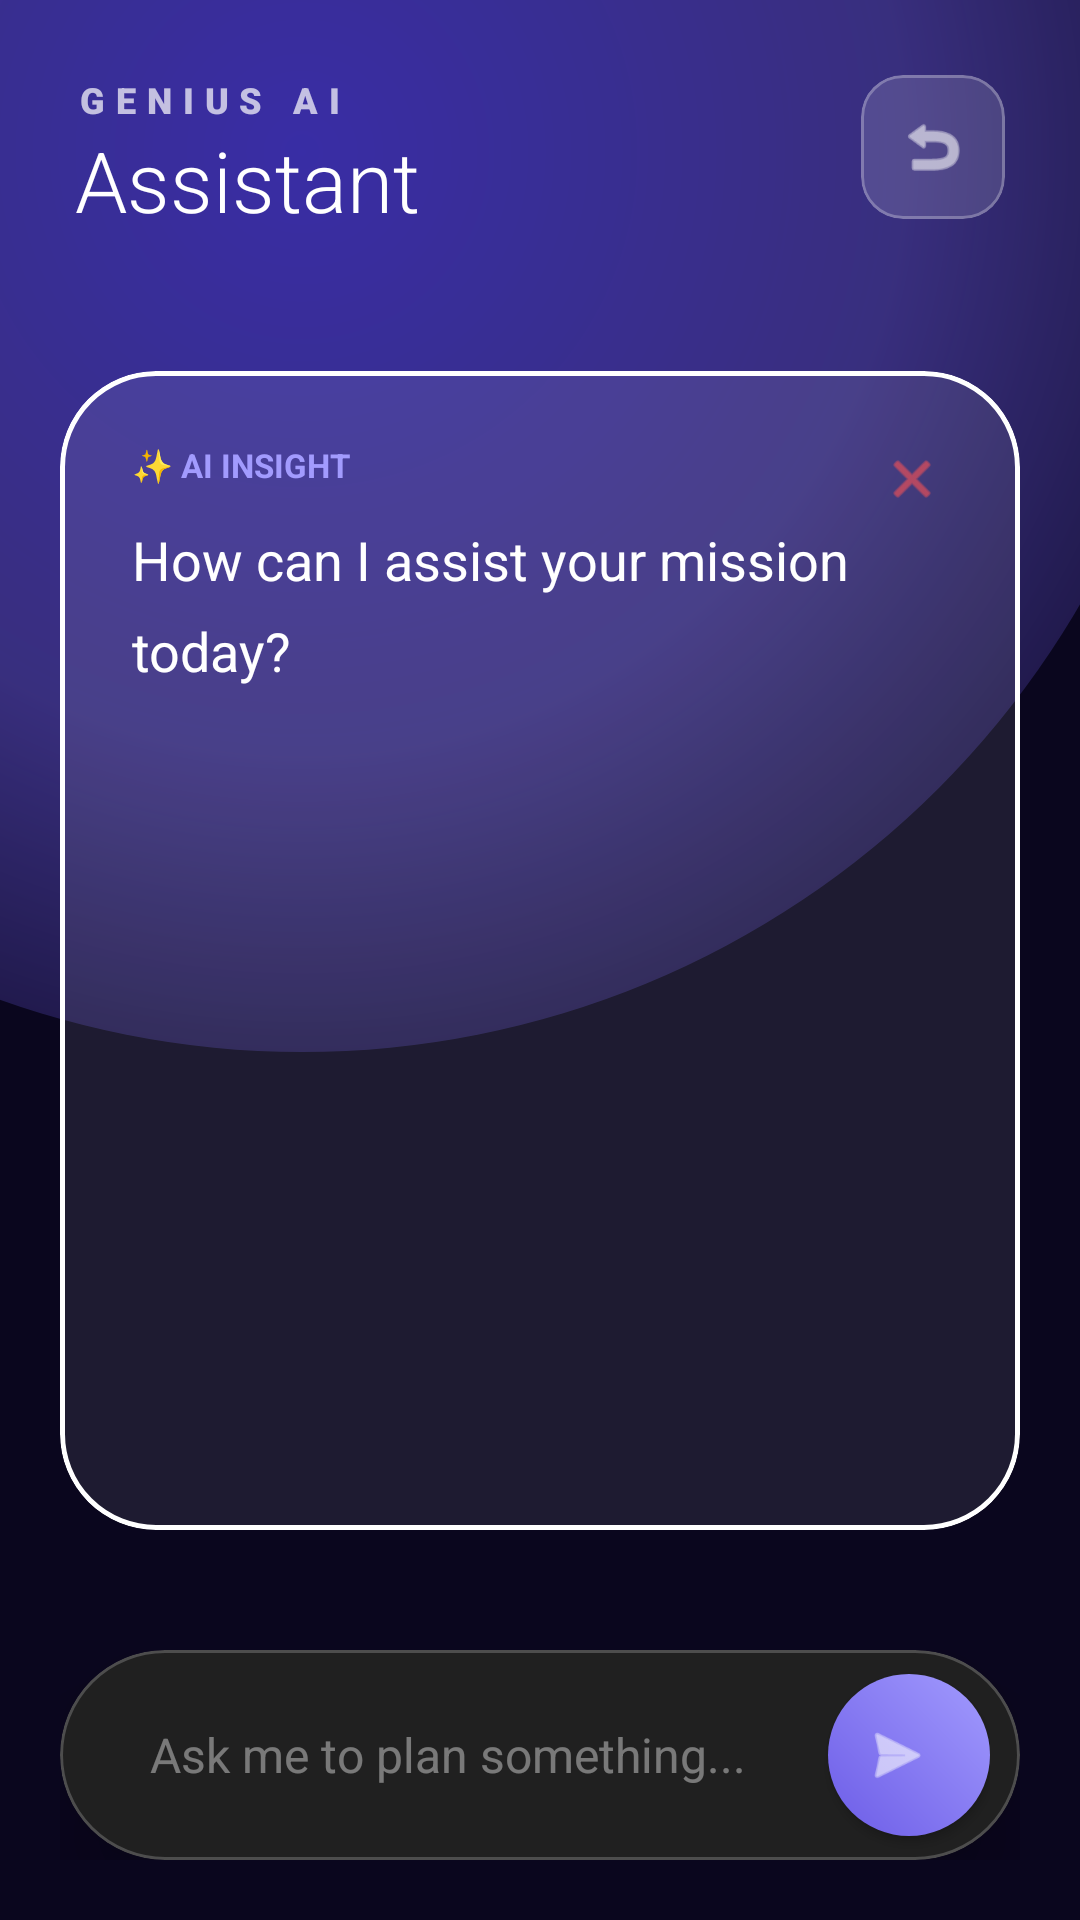

Locate icon controls on the screen. Image size 1080w x 1920h, boxes as (x1, y1, x2, y2).
close clear cancel: (893, 460, 931, 498)
revert: (861, 75, 1005, 219)
send: (828, 1674, 990, 1836)
